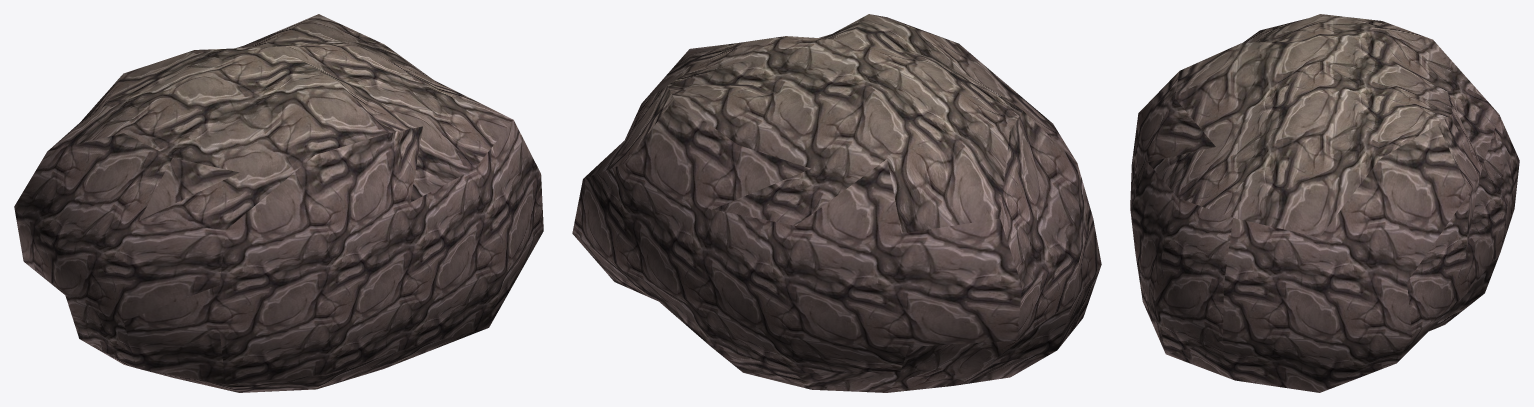
The model's file is rock_dark.glb.
3 renders of one model, left to right at view 1: azimuth 30°, elevation 25°; view 2: azimuth 150°, elevation 25°; view 3: azimuth 270°, elevation 25°, orthographic. The views are drawn at different scales.
Parts seen in each view (by area): view 1: Rock; view 2: Rock; view 3: Rock.
Boxes of the visible parts, <box> form: Rock: <box>14,14,543,392</box>; Rock: <box>572,14,1101,392</box>; Rock: <box>1130,14,1519,392</box>.
Bounding box in the file's own units: 2.86 × 1.78 × 2.24.
1 material, 1 textured.
